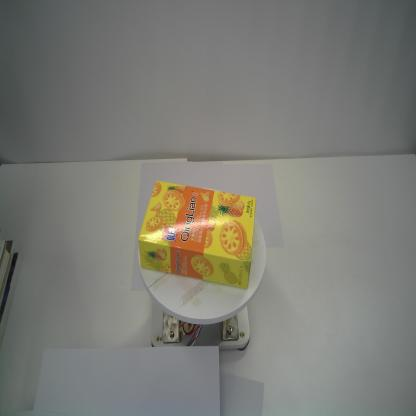Dessert: (138, 180, 256, 291)
